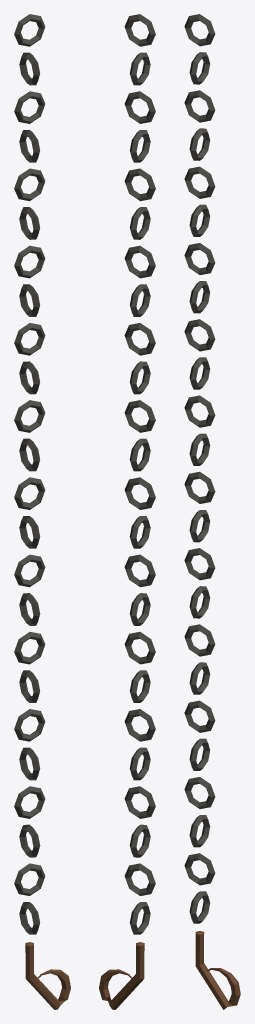
The model's file is hanging_chain.glb.
The picture shows the model from 3 angles, left to right: view 1: azimuth 30°, elevation 25°; view 2: azimuth 150°, elevation 25°; view 3: azimuth 330°, elevation 25°; orthographic projection.
Visible parts, largest first — view 1: hanging_chain; view 2: hanging_chain; view 3: hanging_chain.
Boxes of the visible parts, bbox=[...] form: hanging_chain: bbox=[14, 14, 70, 1009]; hanging_chain: bbox=[99, 14, 155, 1009]; hanging_chain: bbox=[184, 14, 240, 1009].
Bounding box in the file's own units: 0.1848 × 3.11 × 0.102.
